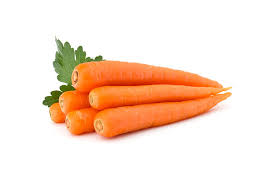carrot: (88, 90, 254, 141), (63, 52, 227, 91), (79, 80, 233, 105), (63, 103, 96, 134), (56, 90, 87, 111), (42, 101, 67, 125)
